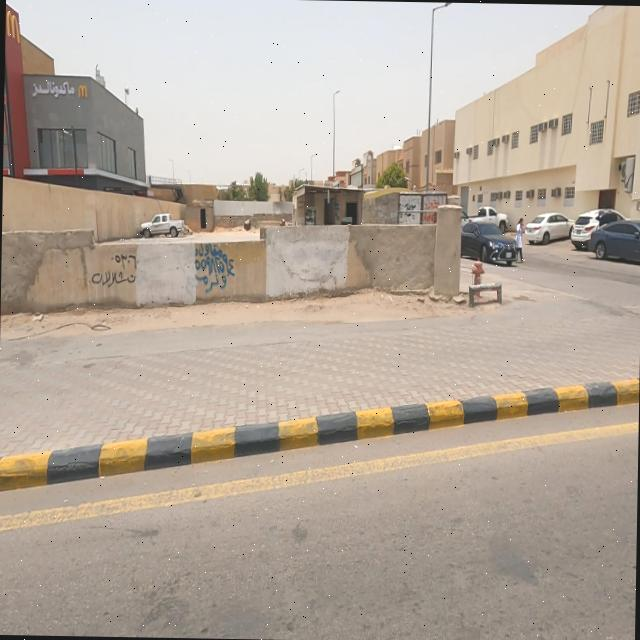Graffiti: (195, 243, 235, 295), (92, 252, 137, 290)
